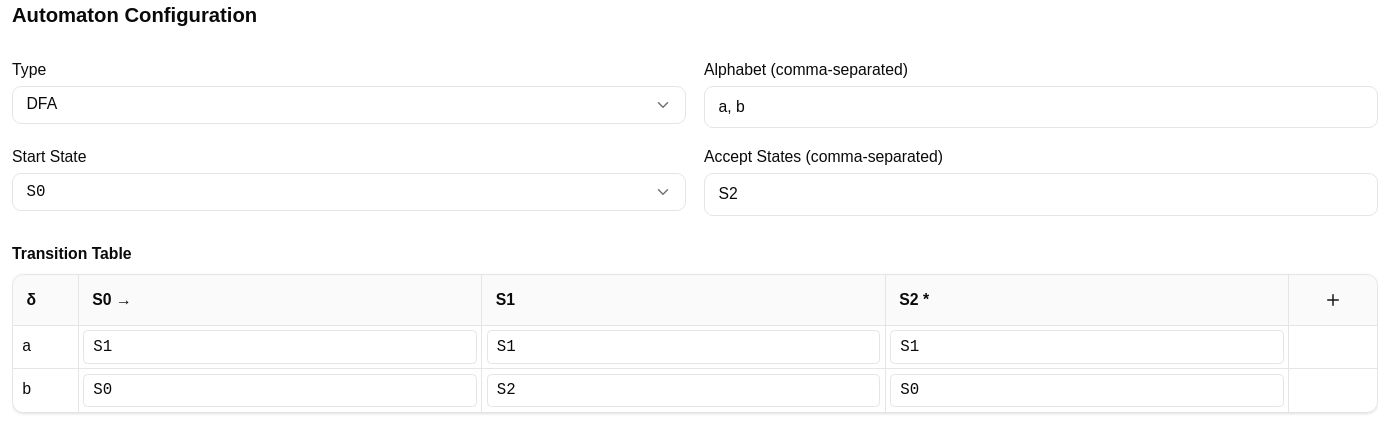
Test: FAConfigView — dropdown handlers › switches the start state through the dropdown
The width and height of the screenshot is (1390, 431).
Click the button with test id "fa-start-state-select": (36, 192) left=12, top=173, right=686, bottom=211
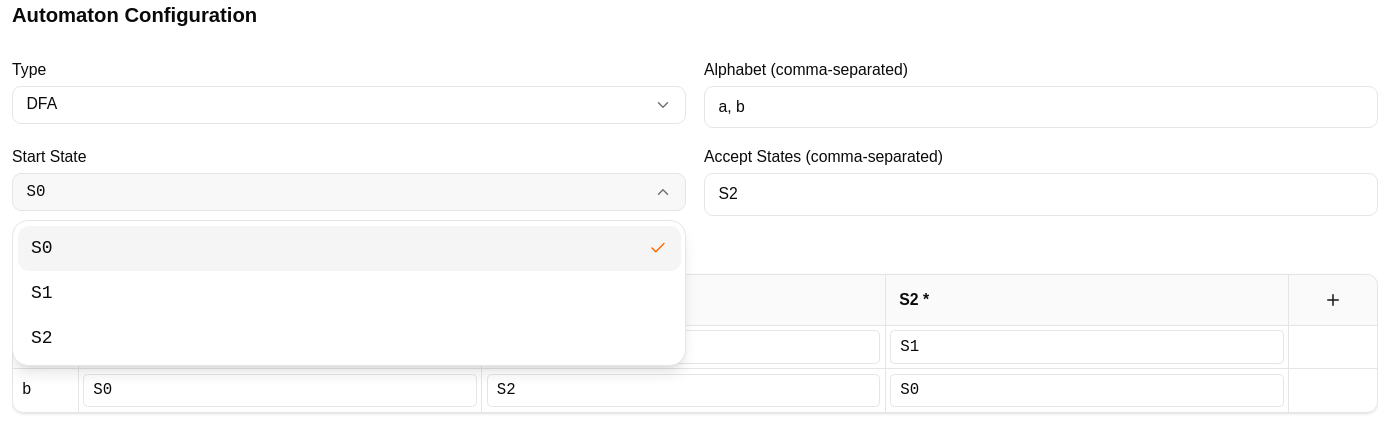
Click the option with test id "fa-start-state-option-S1": (42, 292) left=18, top=270, right=680, bottom=316
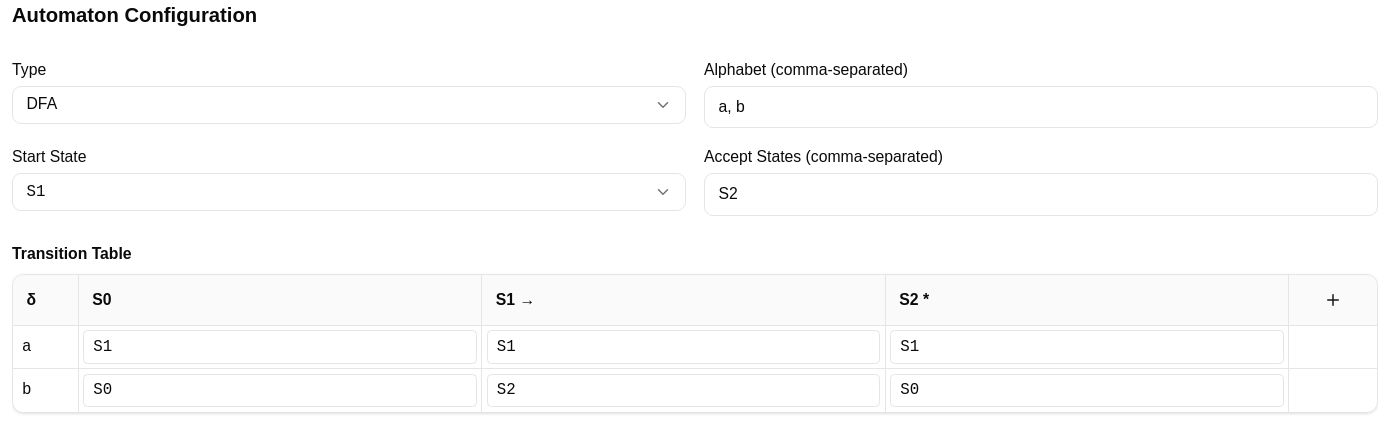
Now the button with test id "fa-start-state-select" reads "S1", box left=12, top=173, right=686, bottom=211
